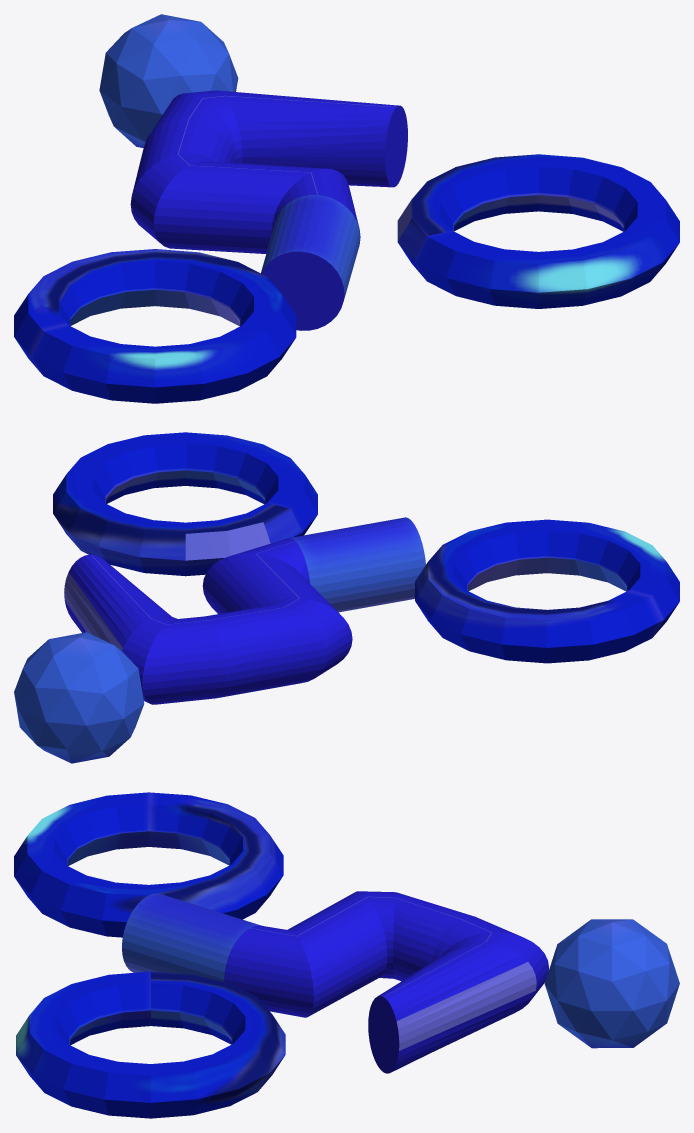
The model's file is model_bike.obj.
3 views of the same model, one above another, from view 1: azimuth 30°, elevation 25°; view 2: azimuth 150°, elevation 25°; view 3: azimuth 270°, elevation 25° (orthographic). The views are drawn at different scales.
Parts seen in each view (by area): view 1: Bike_Torus; view 2: Bike_Torus; view 3: Bike_Torus.
Part boxes in pixels (x1,y1,x2,y2): Bike_Torus: (14,14,679,403); Bike_Torus: (14,432,679,763); Bike_Torus: (14,792,679,1118).
Bounding box in the file's own units: 1.67 × 0.324 × 1.59.
Materials: 1 (1 with a texture image).
